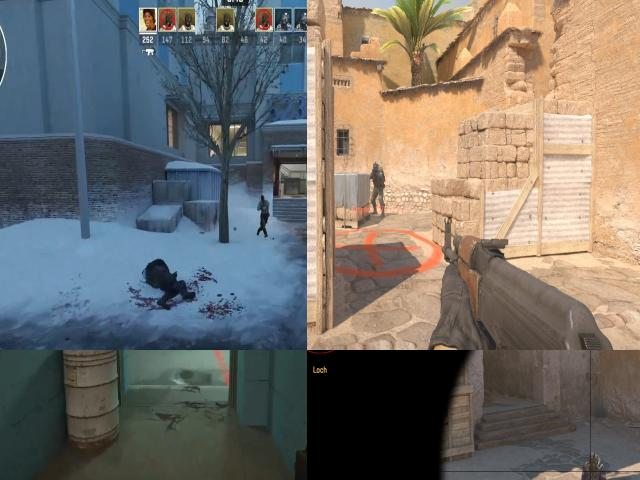CT: (581, 450, 607, 480), (372, 162, 383, 216)
CT-Head: (586, 452, 599, 469), (373, 162, 378, 170)
Dead: (139, 254, 195, 305)
T: (256, 194, 271, 220)
T-Head: (259, 196, 269, 208)
